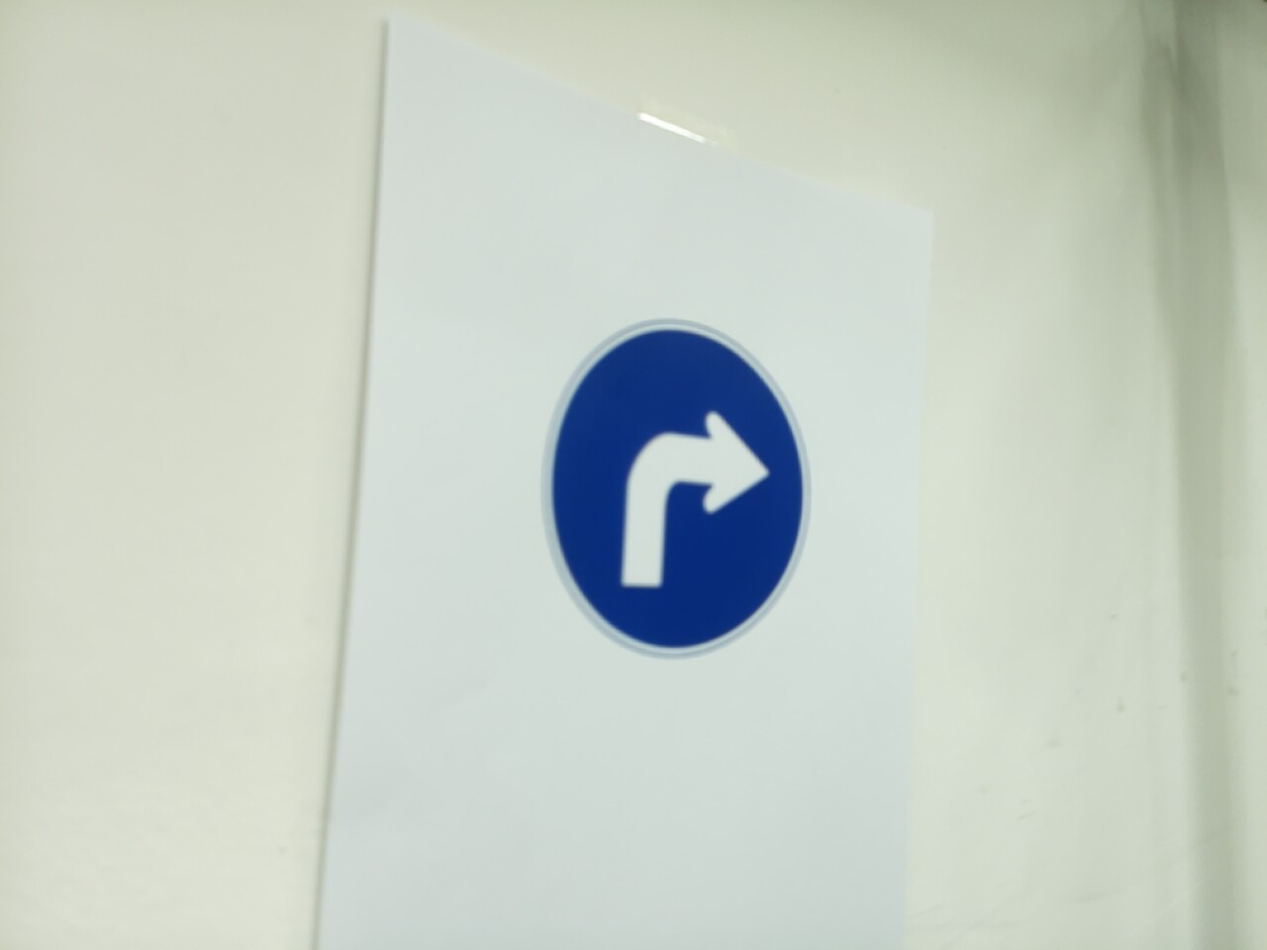right_turn: (543, 320, 812, 658)
